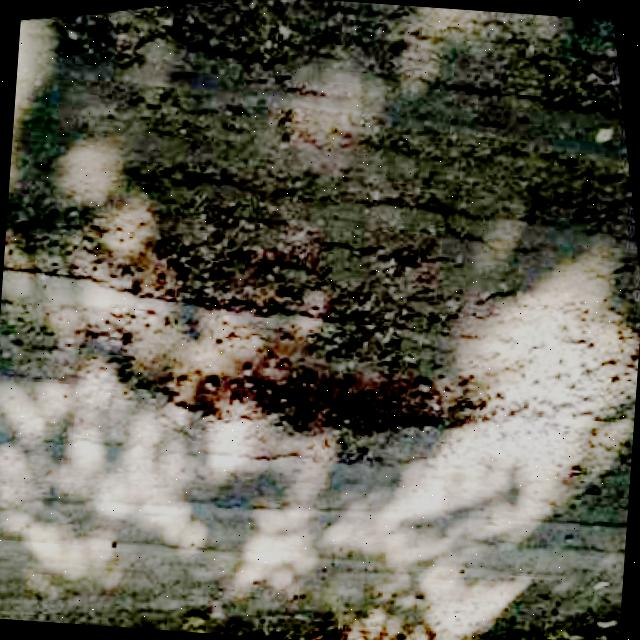pothole: (78, 232, 640, 461)
